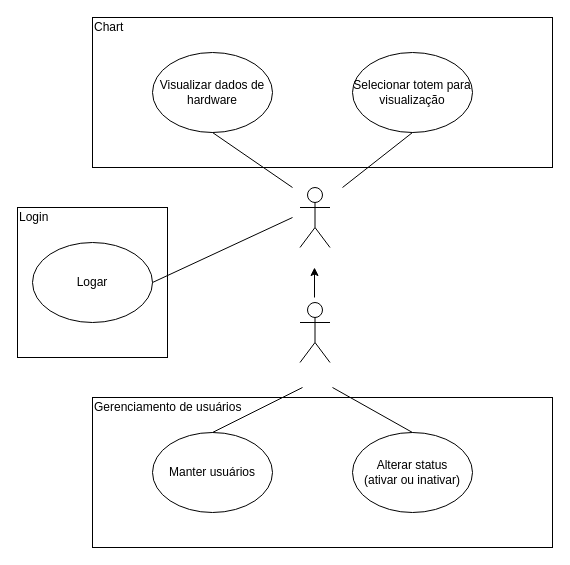
Image size: 570x565. Some labels were removed from this diagram. The centre of each missing label's shape, as x and y in pixels:
"Administrador" goes at [314,332].
"Funcionario" goes at [314,217].
